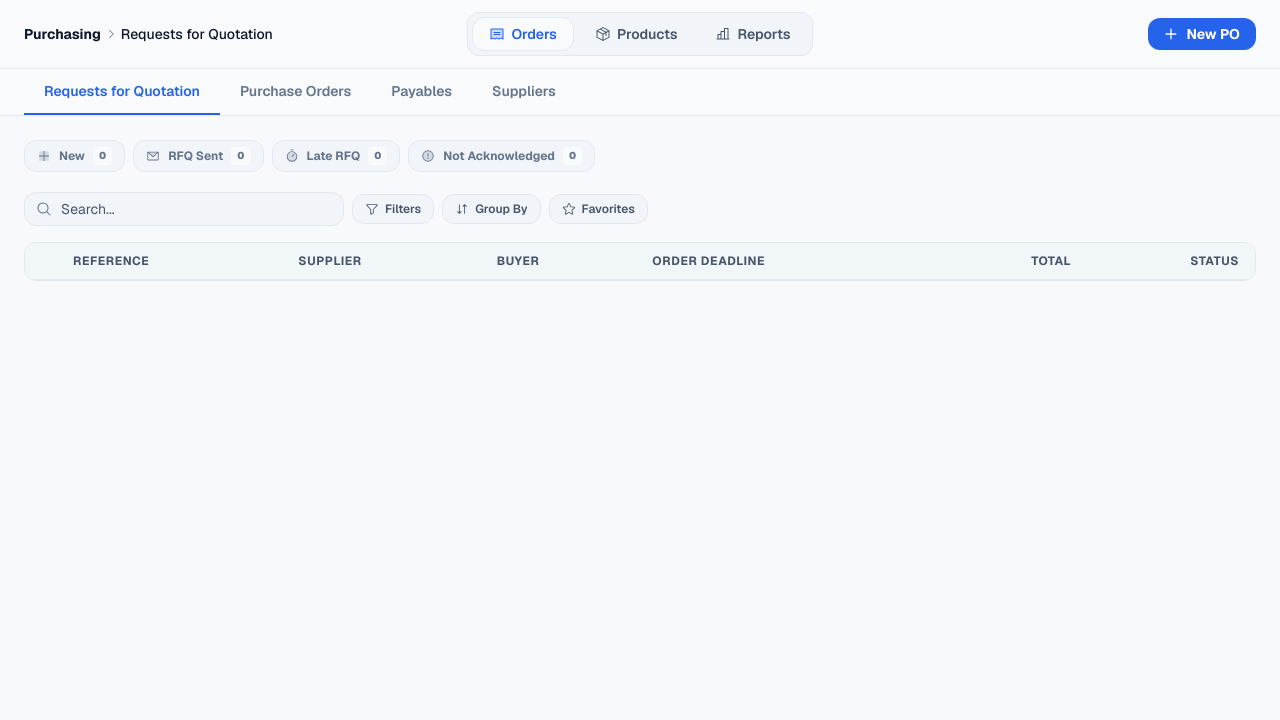
Test: Purchasing product fitment and description › editing fitment trips the discard guard
Click the button "Products" at [636, 34], box [578,17,694,51]
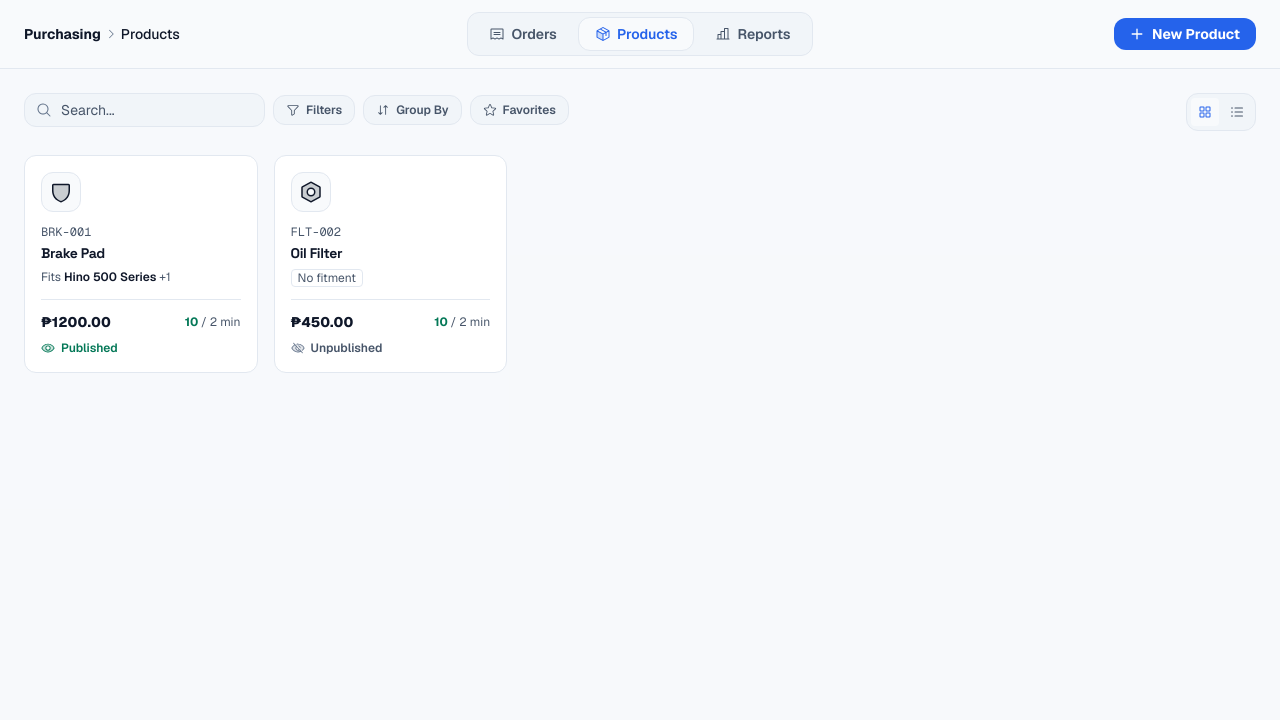
Press Enter in the button "Brake Pad", box [24,155,258,373]
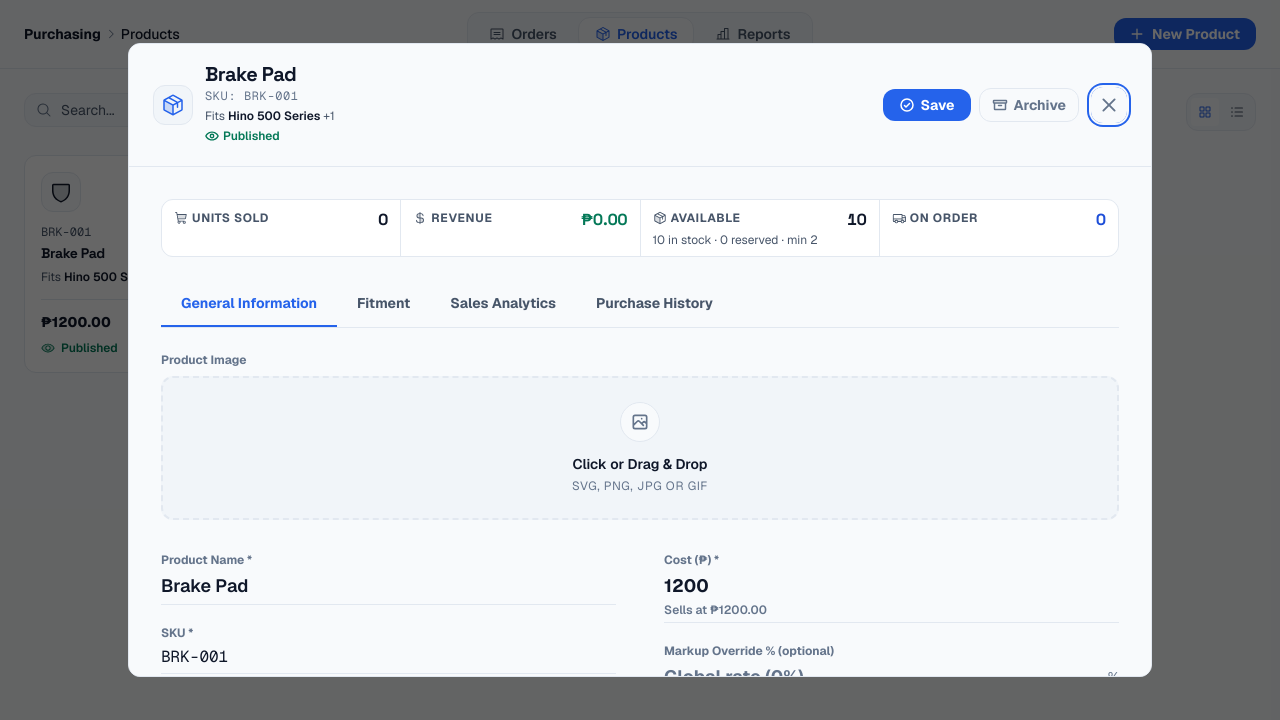
Click the tab "Fitment" at [384, 304], box [337,281,430,327]
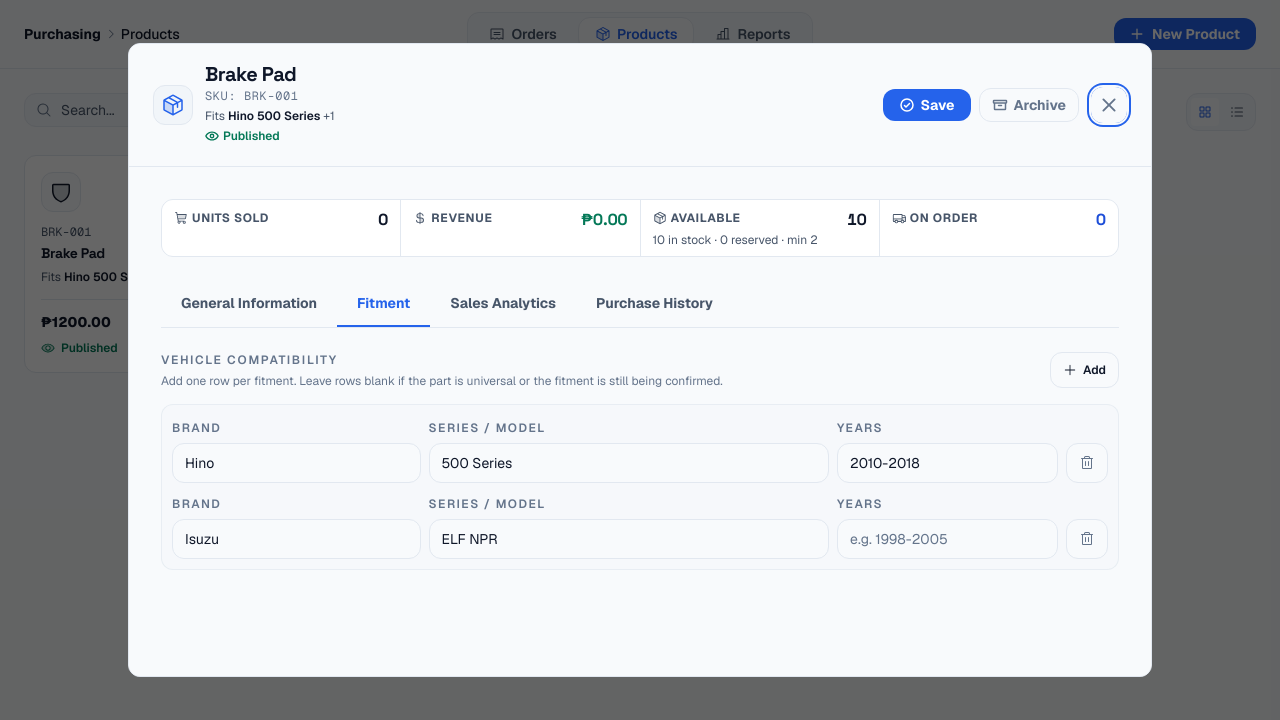
Replace the text in the 2nd field labelled "Series / Model" with "ELF NKR" at [629, 539], box [429,519,829,559]
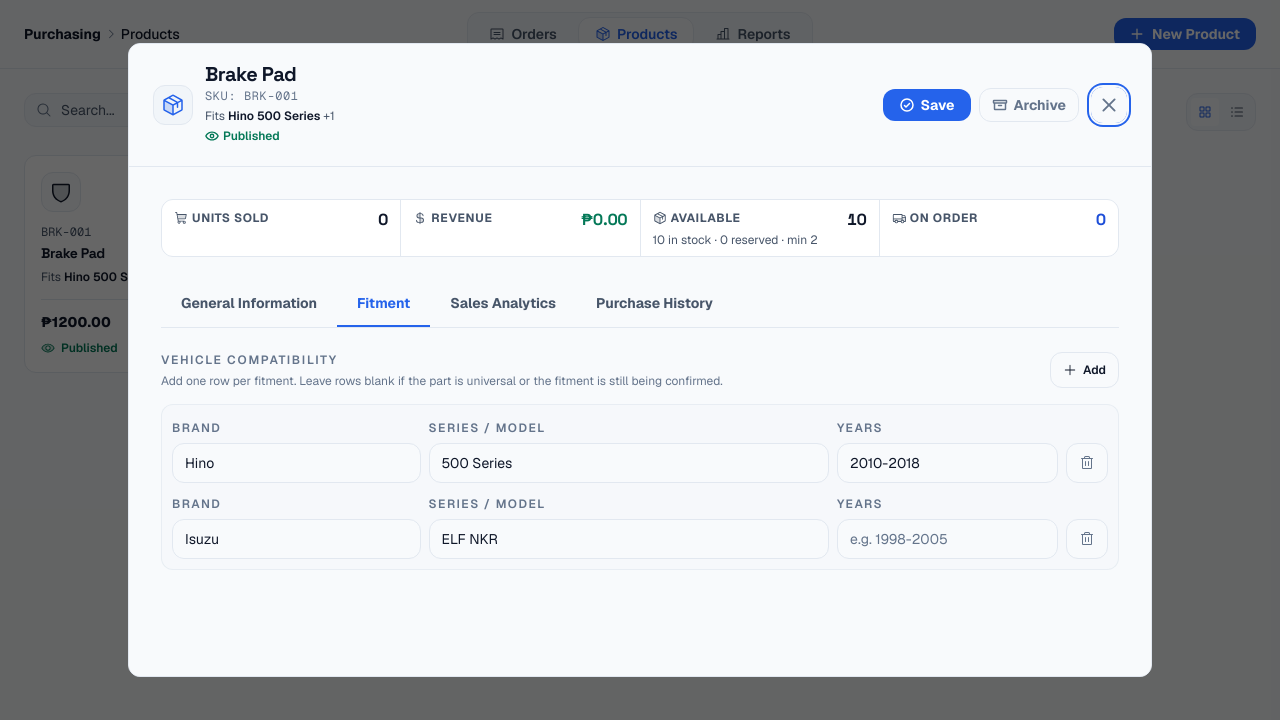
Press Escape
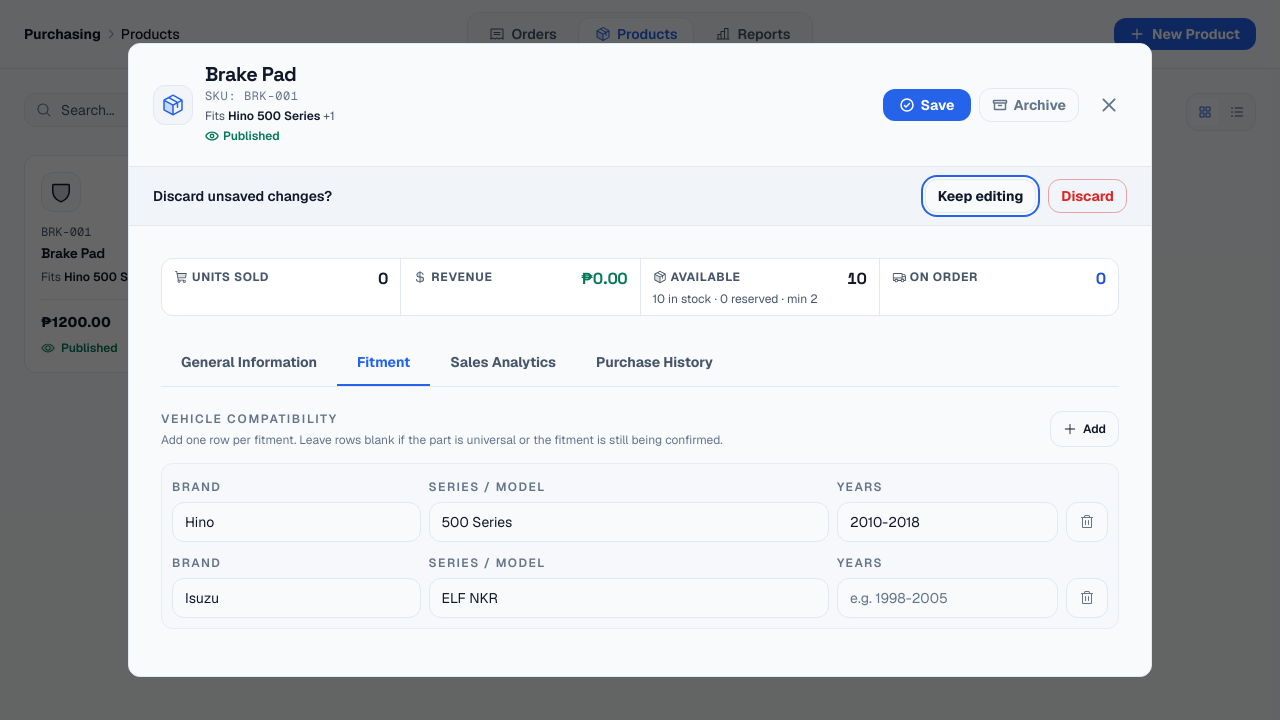
Now the text "Discard unsaved changes?" is shown, box [153,187,332,205]
